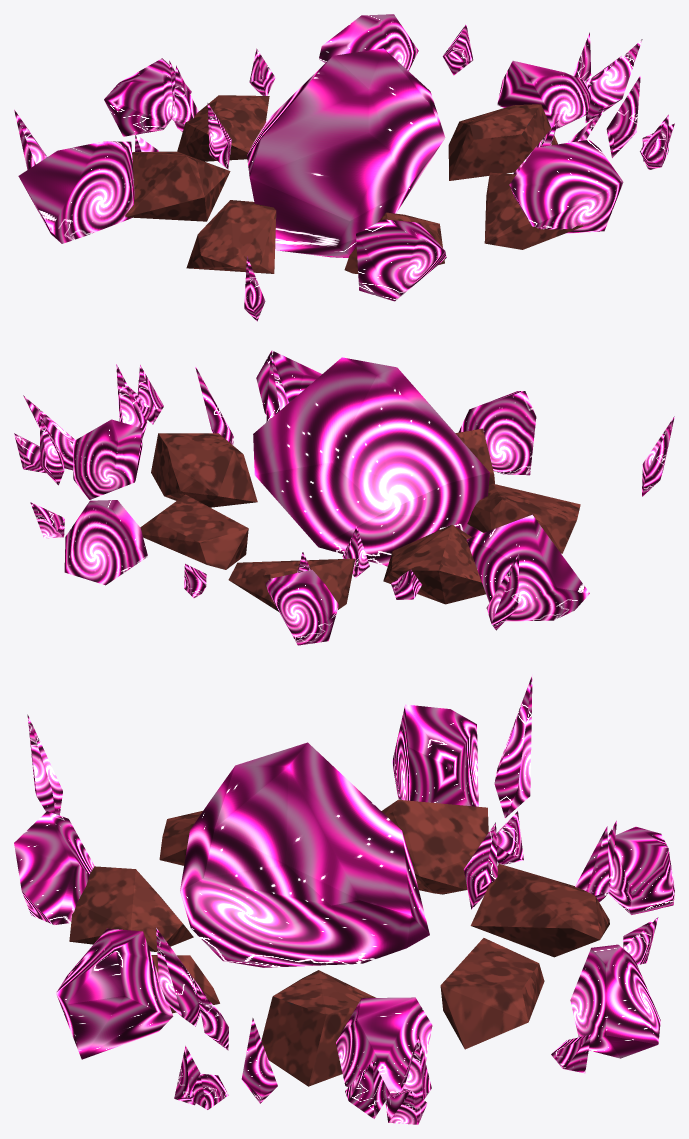
File: deposit_ore.glb
The picture shows the model from 3 angles, top to bottom: view 1: azimuth 30°, elevation 25°; view 2: azimuth 150°, elevation 25°; view 3: azimuth 270°, elevation 25°; orthographic projection. The views are drawn at different scales.
Parts seen in each view (by area): view 1: OreDeposit_pink; view 2: OreDeposit_pink; view 3: OreDeposit_pink.
Part boxes in pixels (left/top/right/bottom): OreDeposit_pink: left=14, top=14, right=674, bottom=321; OreDeposit_pink: left=14, top=350, right=674, bottom=645; OreDeposit_pink: left=14, top=674, right=674, bottom=1124.
Bounding box in the file's own units: 11.07 × 3.38 × 8.4.
Materials: 2 (2 with a texture image).
